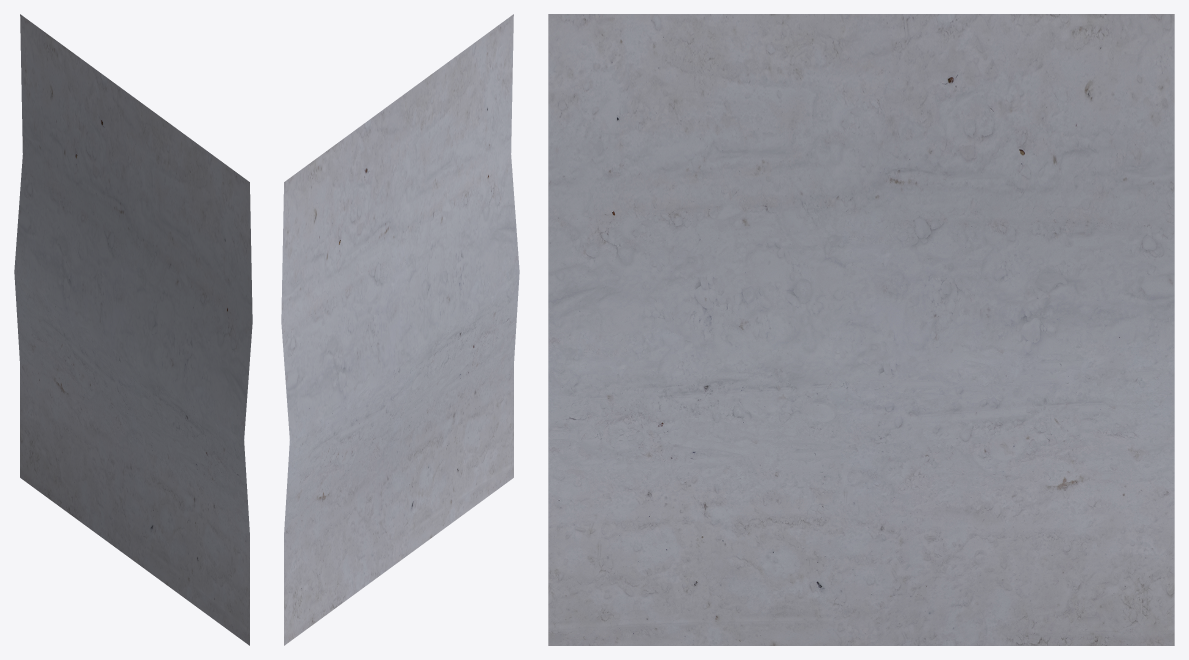
File: wall.FBX
3 views of the same model, side by side, from view 1: azimuth 30°, elevation 25°; view 2: azimuth 150°, elevation 25°; view 3: azimuth 270°, elevation 25° (orthographic). The views are drawn at different scales.
Visible parts, largest first — view 1: Plane002; view 2: Plane002; view 3: Plane002.
Boxes of the visible parts, x1=… form: Plane002: x1=14, y1=14, x2=252, y2=645; Plane002: x1=281, y1=14, x2=519, y2=645; Plane002: x1=548, y1=14, x2=1174, y2=645.
Bounding box in the file's own units: 34.74 × 1113 × 1000.
